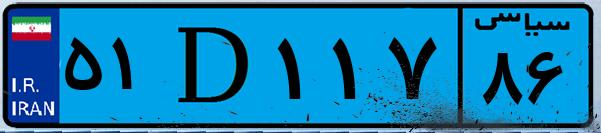1: (270, 28, 330, 110), (330, 28, 385, 110), (110, 28, 158, 98)
5: (57, 26, 110, 100)
6: (525, 38, 570, 115)
7: (385, 28, 445, 110)
8: (475, 38, 525, 113)
D: (158, 12, 270, 120)
